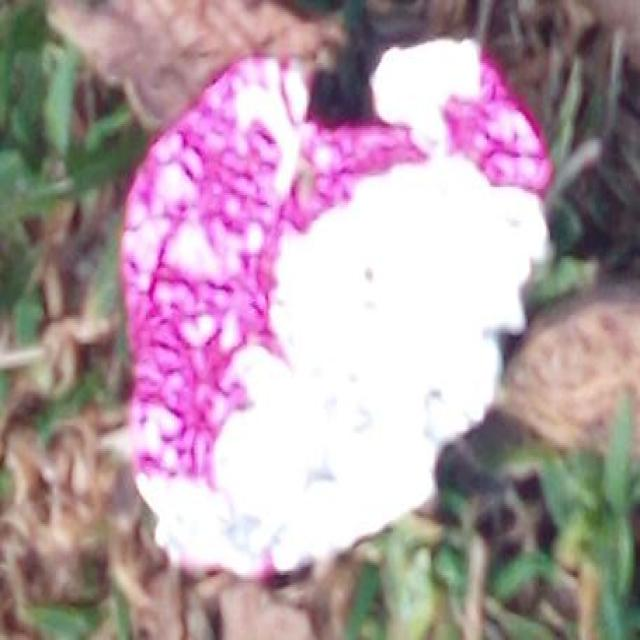litter: (107, 26, 571, 585)
